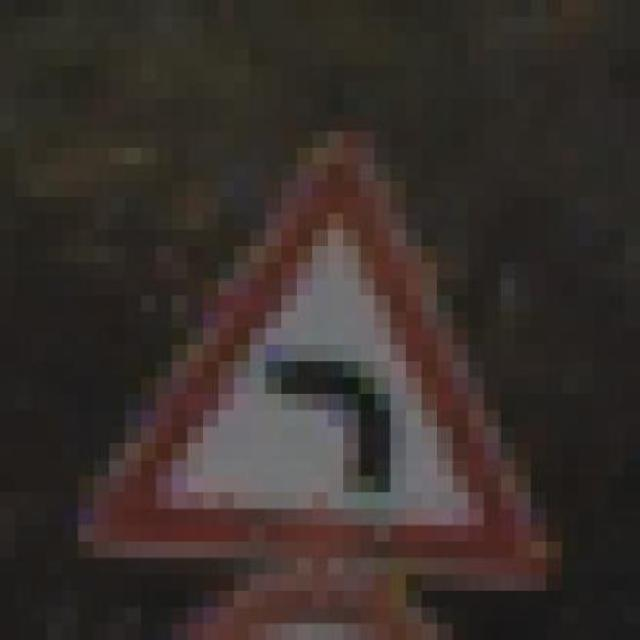Dangerous Left Curve Ahead: (93, 98, 562, 574)
